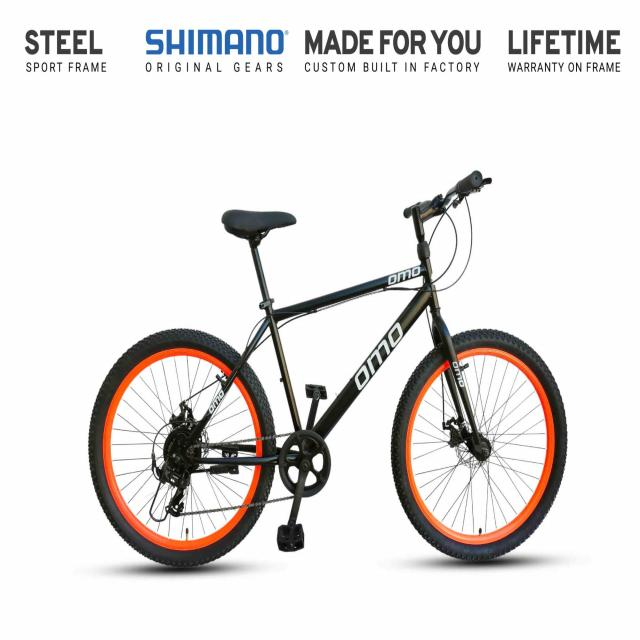bicycle: (80, 114, 582, 598)
